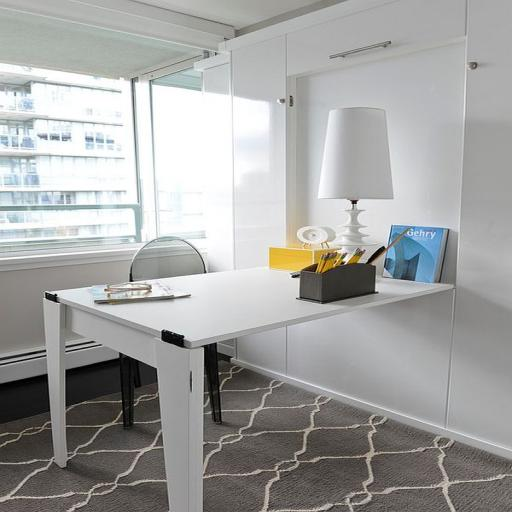chair: (117, 236, 222, 429)
desk: (44, 266, 454, 512)
